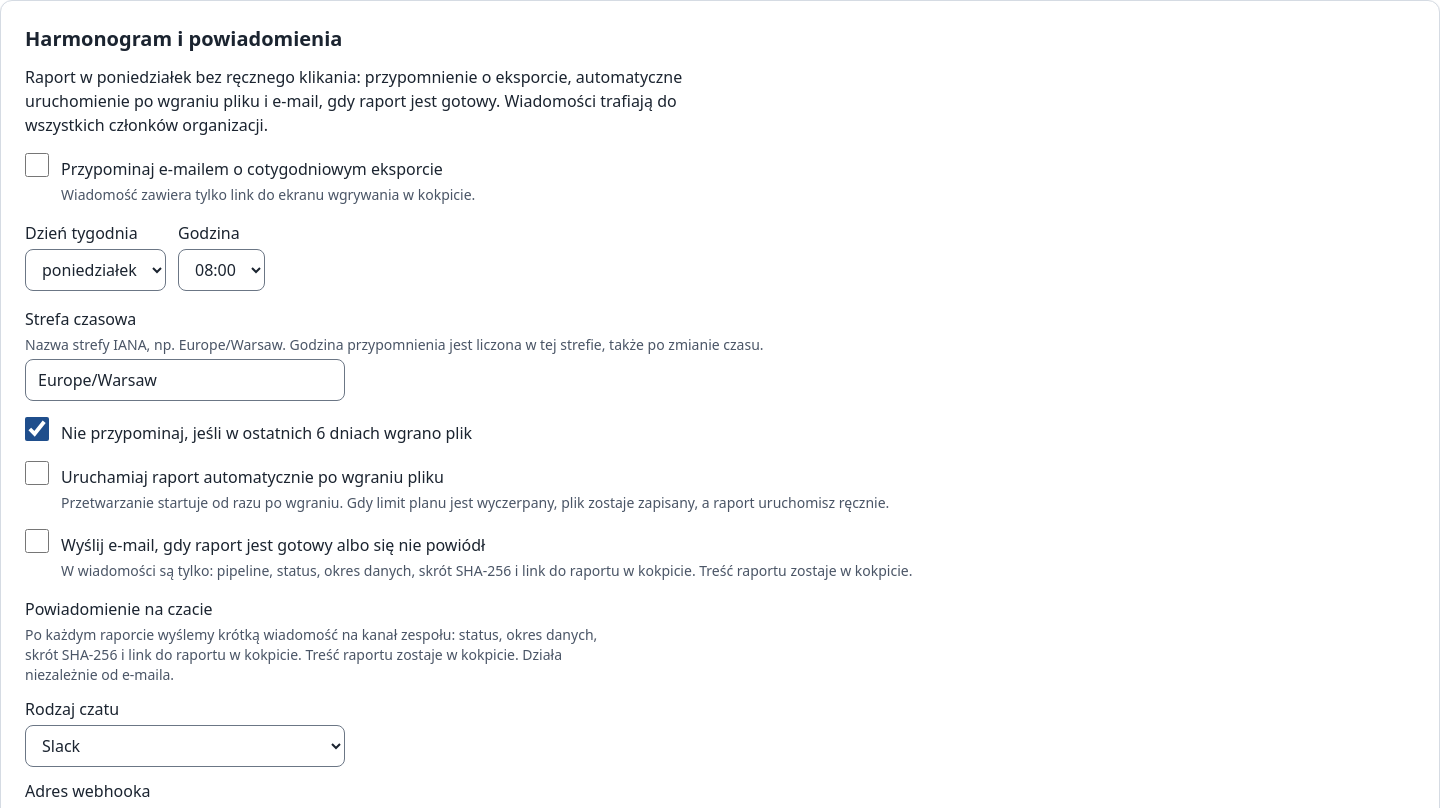
Scenario: ScheduleSettingsCard › błąd 422 z API pokazuje komunikat przy polu strefy i podsumowanie błędów
The width and height of the screenshot is (1440, 808).
Step 1. Replace the text in the field labelled "Strefa czasowa" with "Mars/Olympus" → (185, 380), box 25,359 -> 345,401
(page scrolled)
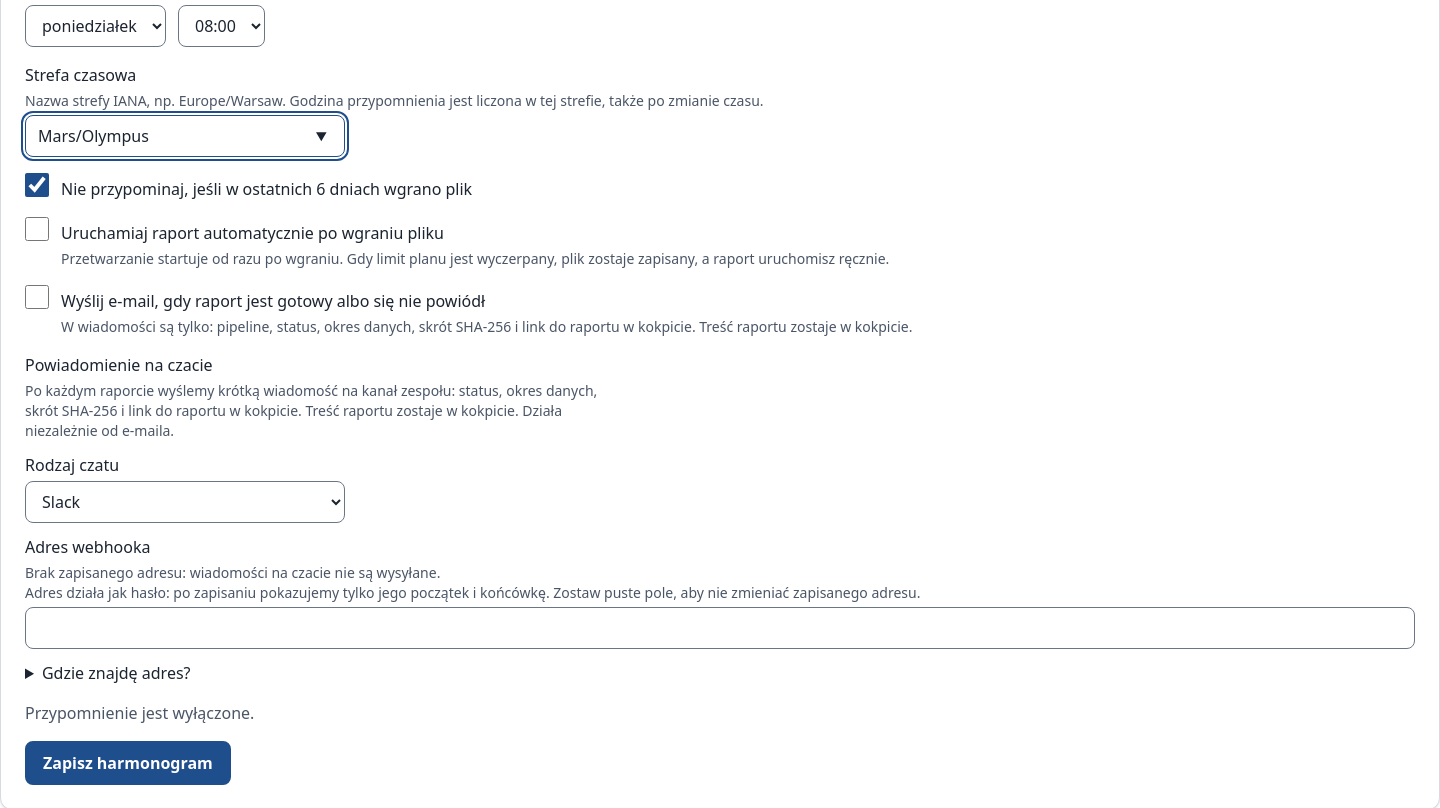
Step 2. Click the button "Zapisz harmonogram" → click(128, 763), box 25,741 -> 231,785
(page scrolled)
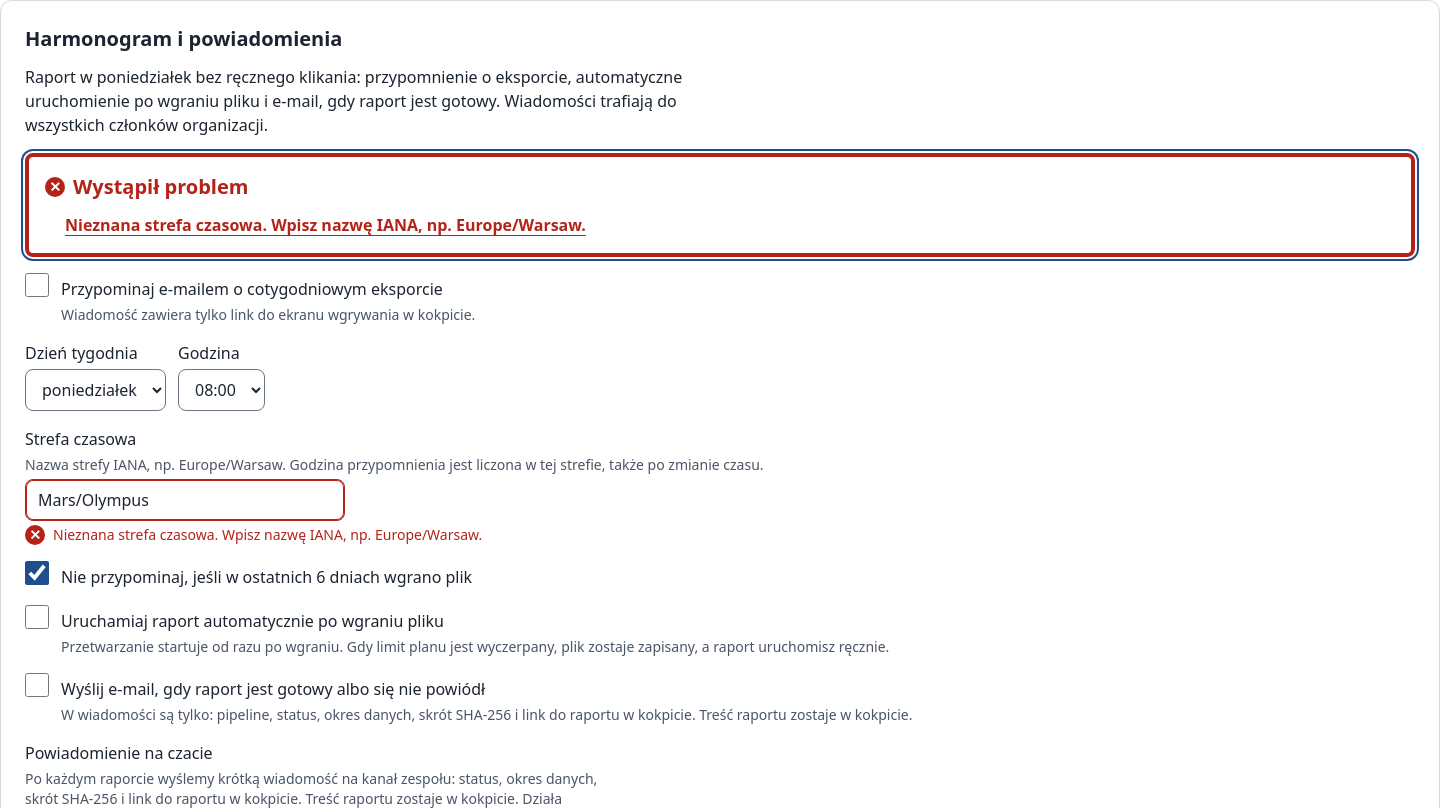
Result: the number of links "Nieznana strefa czasowa. Wpisz nazwę IANA, np. Europe/Warsaw." is 2 at 65,214 -> 586,236; 53,525 -> 482,545
